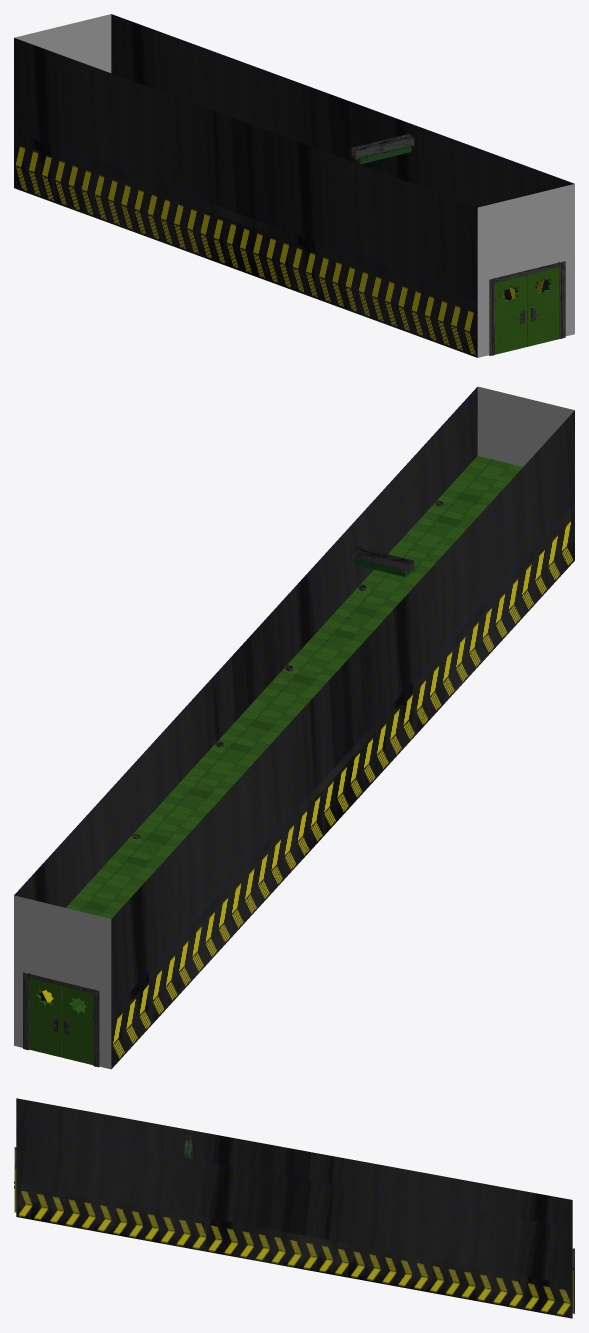
Rendered from Slide_Lvl2.fbx.
The picture shows the model from 3 angles, top to bottom: view 1: azimuth 30°, elevation 25°; view 2: azimuth 150°, elevation 25°; view 3: azimuth 270°, elevation 25°; orthographic projection. The views are drawn at different scales.
Parts seen in each view (by area): view 1: Wall_forAr, Right, Left, Frame, Body; view 2: Wall_forAr, Roof, Left, Right, Frame, Body; view 3: Wall_forAr.
Boxes of the visible parts, <box> form: Wall_forAr: <box>14,14,574,357</box>; Right: <box>495,275,527,354</box>; Left: <box>527,267,559,346</box>; Frame: <box>489,261,565,355</box>; Body: <box>351,133,414,164</box>; Wall_forAr: <box>14,386,574,1069</box>; Roof: <box>66,456,522,918</box>; Left: <box>29,978,62,1057</box>; Right: <box>62,986,93,1064</box>; Frame: <box>23,972,99,1067</box>; Body: <box>351,546,414,576</box>; Wall_forAr: <box>16,1098,572,1318</box>.
Bounding box in the file's own units: 9.3 × 29.2 × 77.36.
